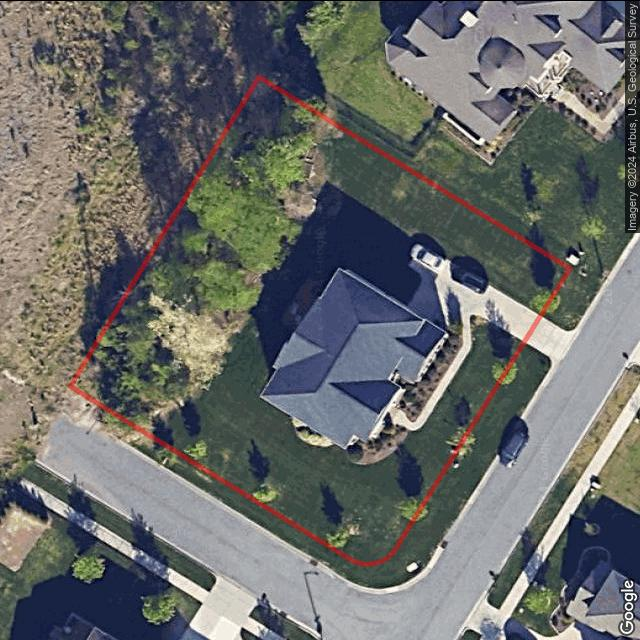Driveway: (408, 243, 540, 340)
Extra-Driveway: (523, 315, 573, 360)
Extra-Lawn: (58, 340, 552, 589), (541, 268, 601, 330)
House: (258, 263, 450, 449)
Lawn: (66, 76, 571, 562)
Other: (70, 77, 334, 428), (396, 319, 464, 419), (347, 411, 407, 463), (281, 278, 328, 335), (292, 416, 336, 447)
Sidewalk: (386, 314, 471, 429)
